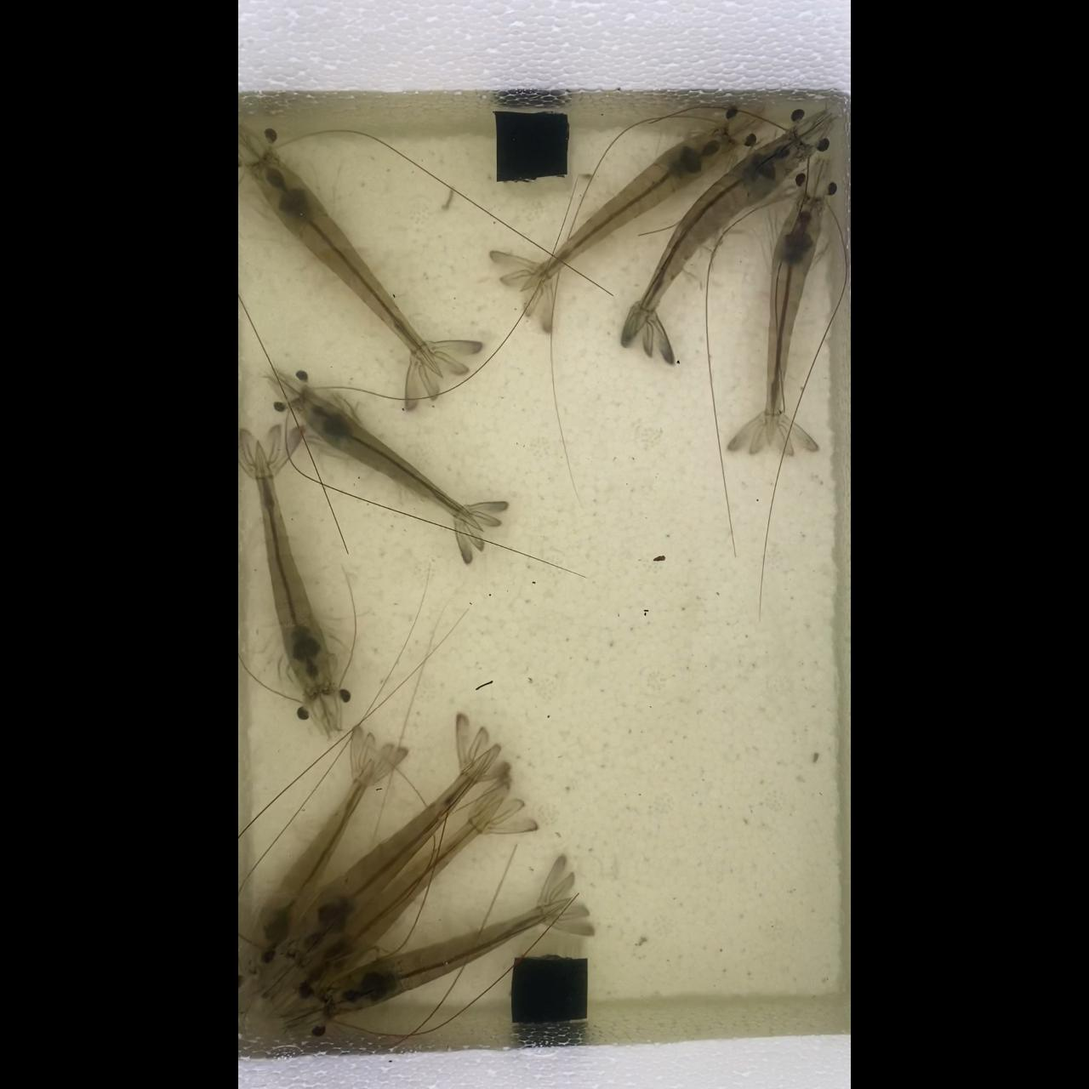box: (495, 112, 569, 182), (512, 956, 586, 1024)
top_shrimp: (282, 749, 491, 965), (255, 156, 442, 378), (298, 798, 502, 989), (633, 136, 806, 331), (521, 128, 731, 288), (325, 898, 569, 1014), (251, 751, 376, 968), (294, 389, 483, 532), (258, 441, 335, 693), (766, 193, 828, 444)
